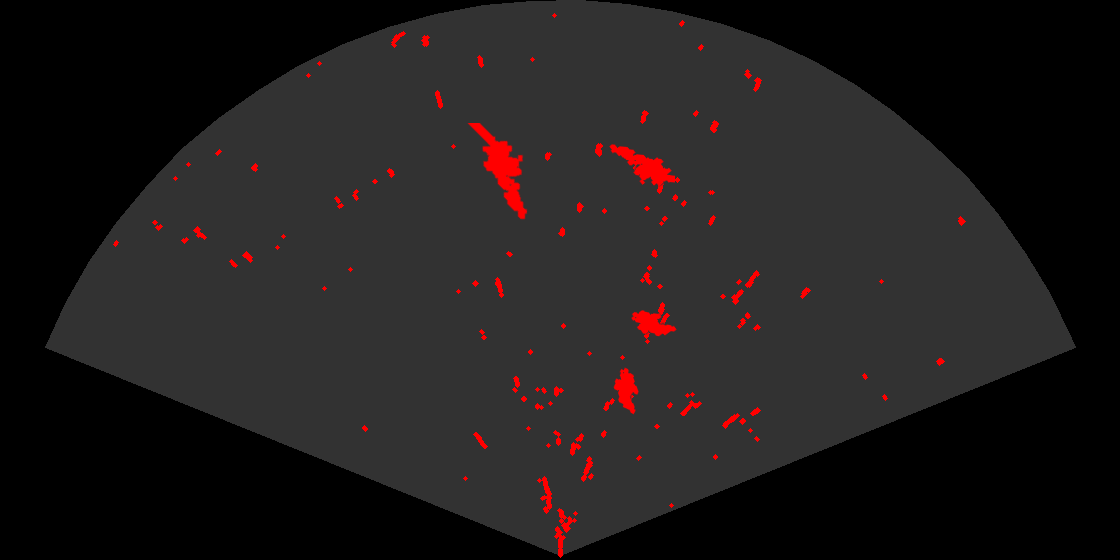AUV: (612, 366, 640, 416), (630, 309, 678, 338)
frogman: (466, 123, 529, 221), (608, 143, 675, 187)
